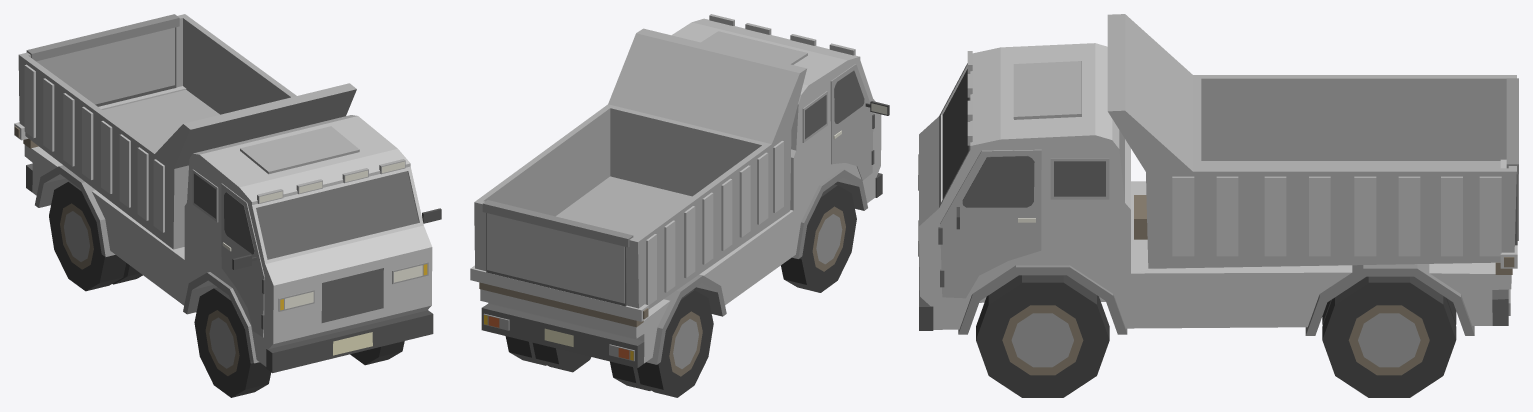
The model's file is kar7.fbx.
3 renders of one model, left to right at view 1: azimuth 30°, elevation 25°; view 2: azimuth 150°, elevation 25°; view 3: azimuth 270°, elevation 25°, orthographic. The views are drawn at different scales.
Parts seen in each view (by area): view 1: Cube_4, Cube_7, Cube_4_2, Cylinder, Cylinder_3, Cylinder_1; view 2: Cube_7, Cube_4, Cube_4_2, Cylinder, Cylinder_3, Cylinder_5; view 3: Cube_7, Cube_4, Cylinder_5, Cylinder_1, Cube_4_2.
Boxes of the visible parts, bbox=[...] form: Cube_4: bbox=[23, 115, 441, 373]; Cube_7: bbox=[14, 14, 356, 249]; Cube_4_2: bbox=[26, 14, 179, 104]; Cylinder: bbox=[49, 181, 142, 291]; Cylinder_3: bbox=[194, 287, 271, 397]; Cylinder_1: bbox=[350, 341, 404, 365]; Cube_7: bbox=[470, 28, 806, 321]; Cube_4: bbox=[479, 14, 889, 367]; Cube_4_2: bbox=[482, 200, 633, 303]; Cylinder: bbox=[610, 289, 713, 397]; Cylinder_3: bbox=[781, 184, 856, 292]; Cylinder_5: bbox=[505, 336, 591, 372]; Cube_7: bbox=[1107, 14, 1517, 268]; Cube_4: bbox=[918, 43, 1512, 335]; Cylinder_5: bbox=[1322, 276, 1456, 397]; Cylinder_1: bbox=[976, 275, 1109, 397]; Cube_4_2: bbox=[1506, 78, 1518, 240].
Bounding box in the file's own units: 285 × 319 × 599.
